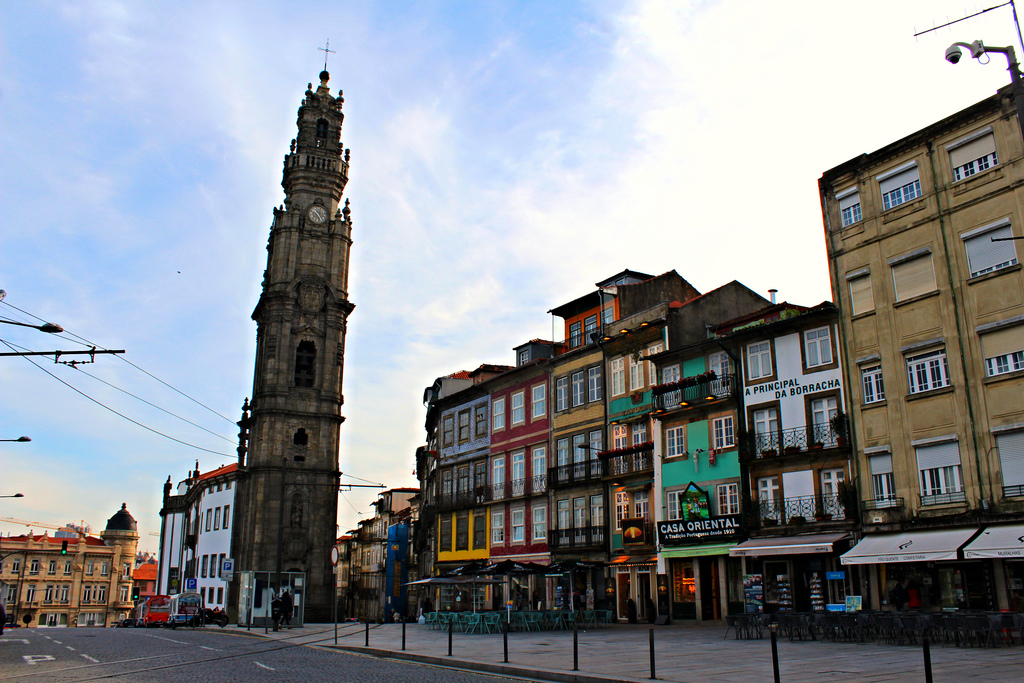clerigos: (231, 34, 356, 609)
